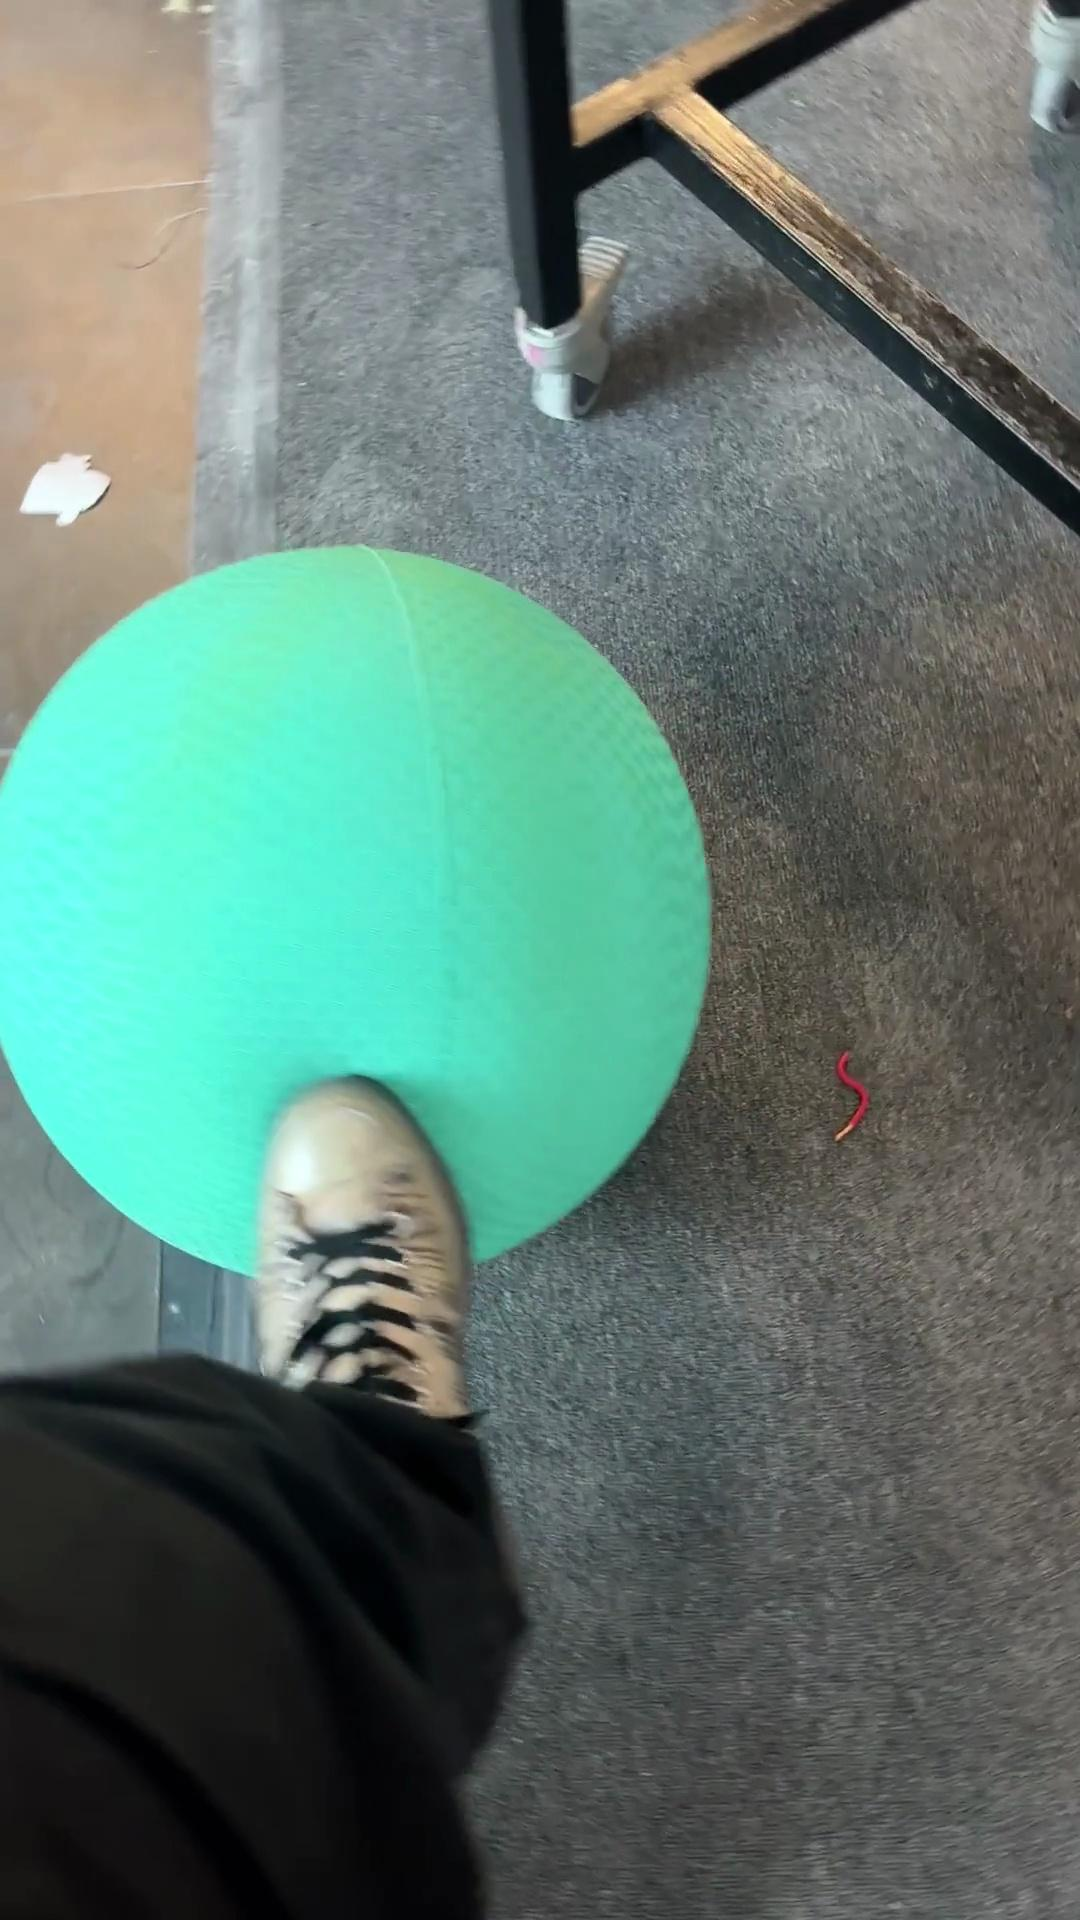ALGAE: (1, 541, 715, 1279)
